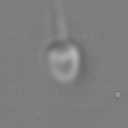normal: (48, 1, 74, 38)
